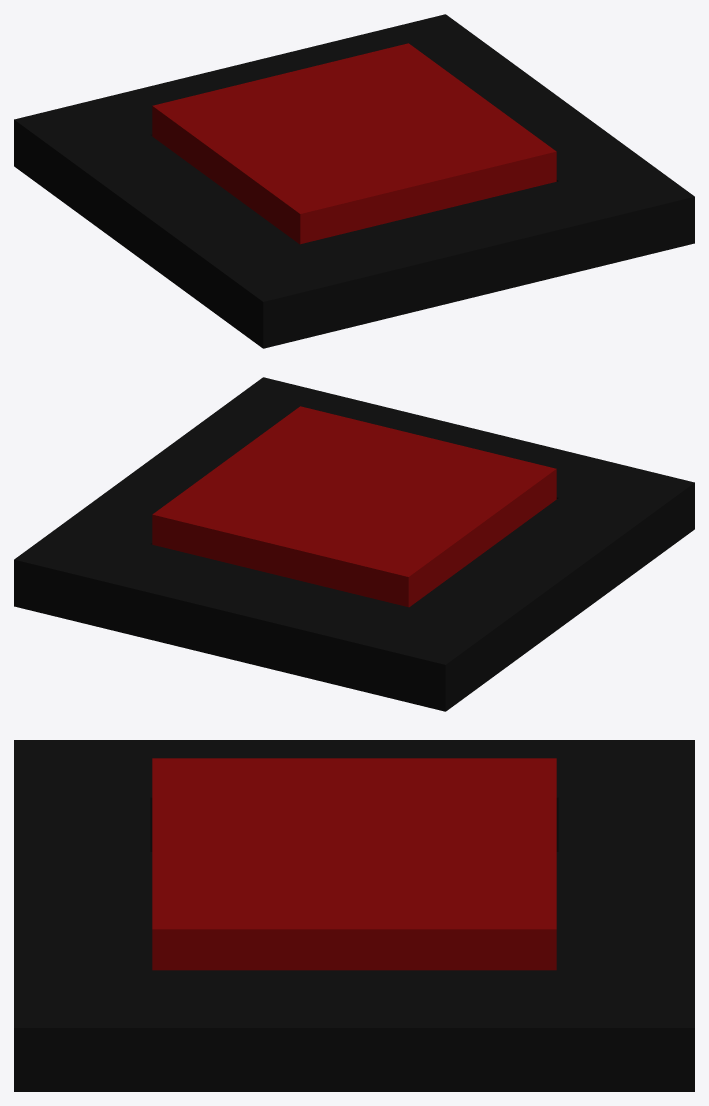
Rendered from pressureplate.obj.
3 views of the same model, one above another, from view 1: azimuth 30°, elevation 25°; view 2: azimuth 150°, elevation 25°; view 3: azimuth 270°, elevation 25° (orthographic). The views are drawn at different scales.
Visible parts, largest first — view 1: pCube1, pCube2; view 2: pCube1, pCube2; view 3: pCube1, pCube2.
Boxes of the visible parts, left/top/right/bottom form: pCube1: left=14, top=14, right=694, bottom=348; pCube2: left=152, top=43, right=556, bottom=244; pCube1: left=14, top=377, right=694, bottom=711; pCube2: left=152, top=406, right=556, bottom=607; pCube1: left=14, top=740, right=694, bottom=1091; pCube2: left=152, top=758, right=556, bottom=970.
Bounding box in the file's own units: 1 × 0.1687 × 1.
